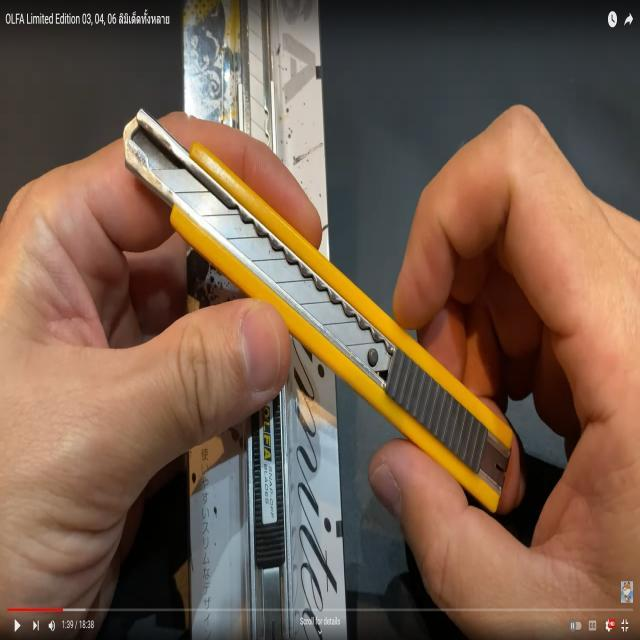cutter: (0, 80, 640, 540)
